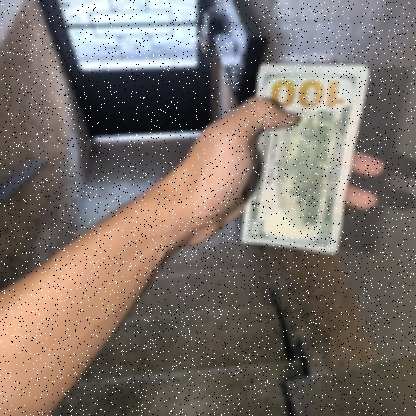one_hundred-back: (229, 59, 368, 263)
